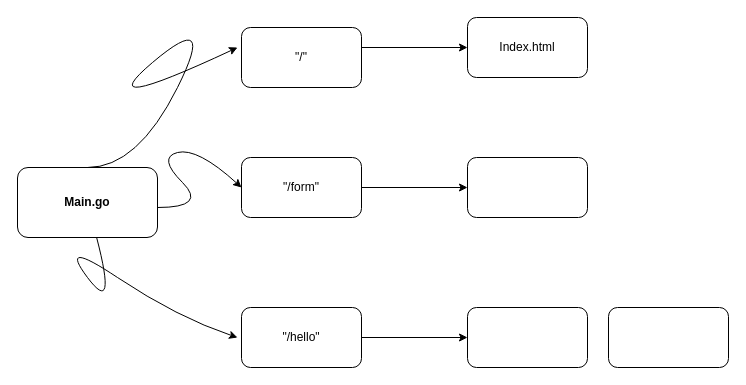
Some shapes in this 746 by 385 pixel diagram are drawn without their labels. The box of each missing label's shape, as (x1, y1, x2, y2) in pixels:
form func: (466, 306, 588, 368)
form.html: (608, 306, 728, 368)
hello func: (466, 156, 588, 218)
